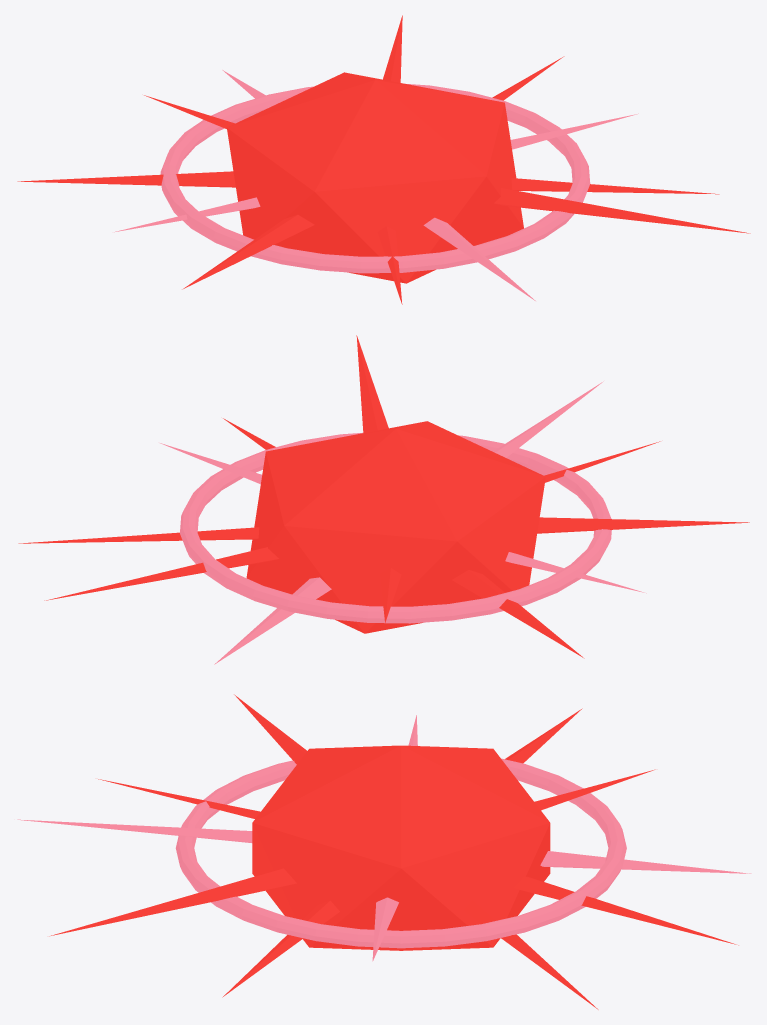
File: laser_impact.glb
The picture shows the model from 3 angles, top to bottom: view 1: azimuth 30°, elevation 25°; view 2: azimuth 150°, elevation 25°; view 3: azimuth 270°, elevation 25°; orthographic projection. The views are drawn at different scales.
Parts seen in each view (by area): view 1: laser_impact; view 2: laser_impact; view 3: laser_impact.
Part boxes in pixels (x1,y1,x2,y2): laser_impact: (17,15,750,304); laser_impact: (18,335,749,664); laser_impact: (17,694,751,1009).
Bounding box in the file's own units: 1.31 × 0.44 × 1.43.
